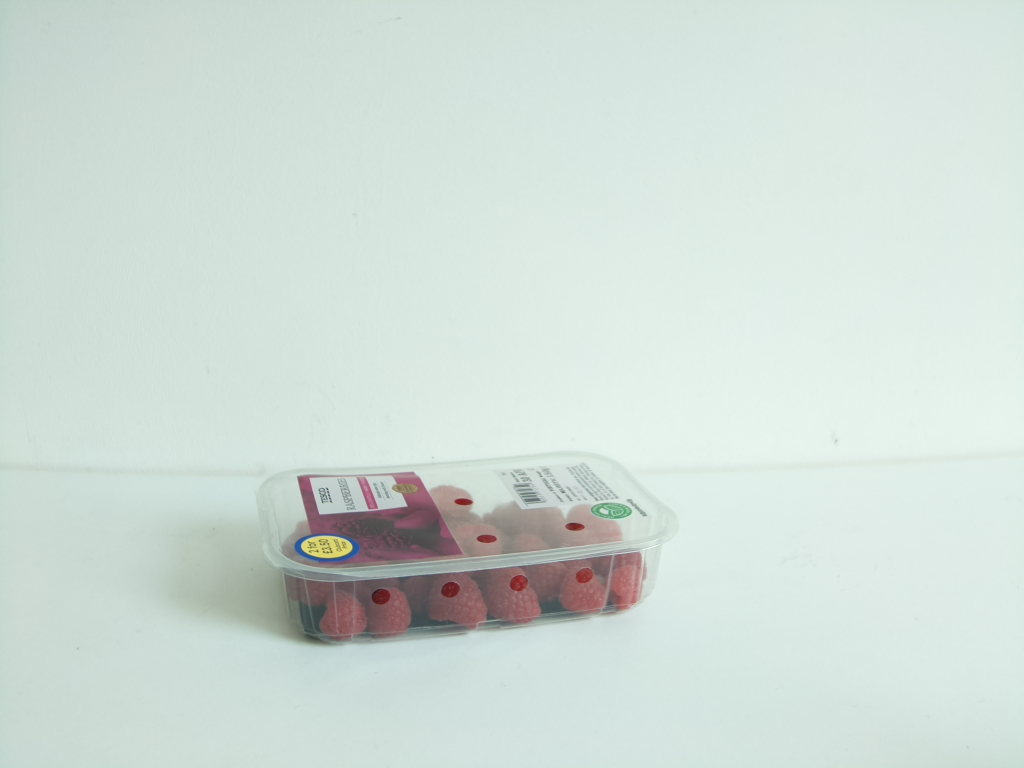soft-fruit: (256, 449, 680, 647)
